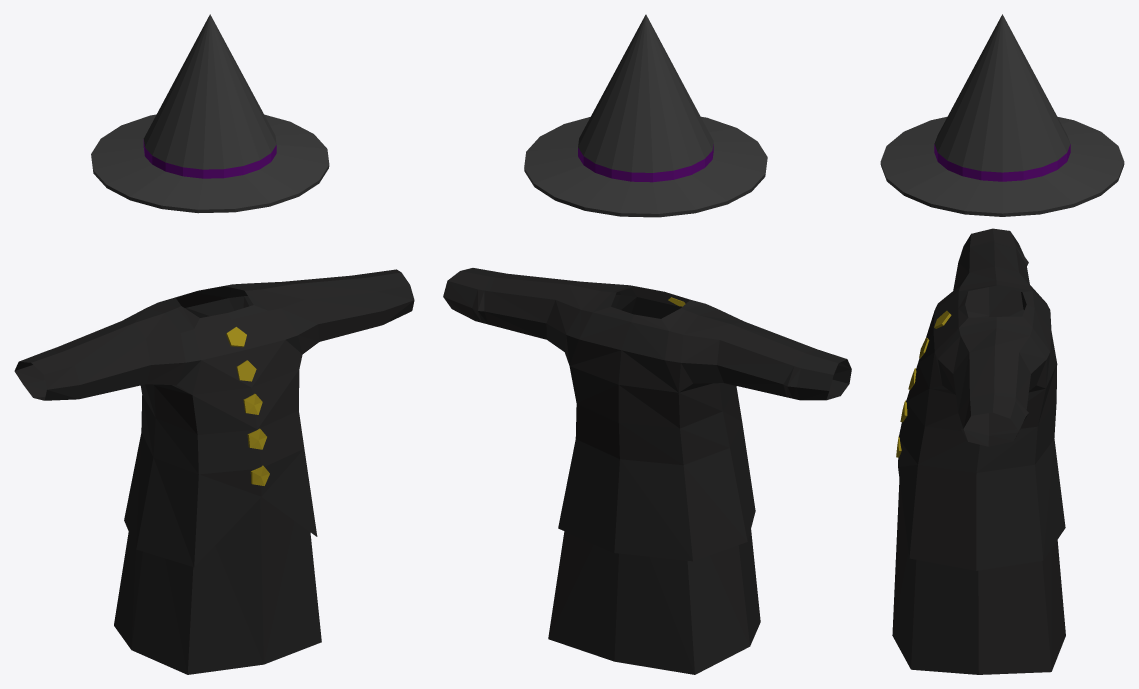
Rendered from Witch Costume.fbx.
3 renders of one model, left to right at view 1: azimuth 30°, elevation 25°; view 2: azimuth 150°, elevation 25°; view 3: azimuth 270°, elevation 25°, orthographic. The views are drawn at different scales.
Visible parts, largest first — view 1: pasted__pasted__pasted__polySurface11; view 2: pasted__pasted__pasted__polySurface11; view 3: pasted__pasted__pasted__polySurface11.
Boxes of the visible parts, x1,y1,x2,y2 form: pasted__pasted__pasted__polySurface11: (14, 14, 414, 674); pasted__pasted__pasted__polySurface11: (443, 14, 851, 674); pasted__pasted__pasted__polySurface11: (880, 14, 1124, 674).
Size of the model in its own units: 12.83 by 19.83 by 7.04.
